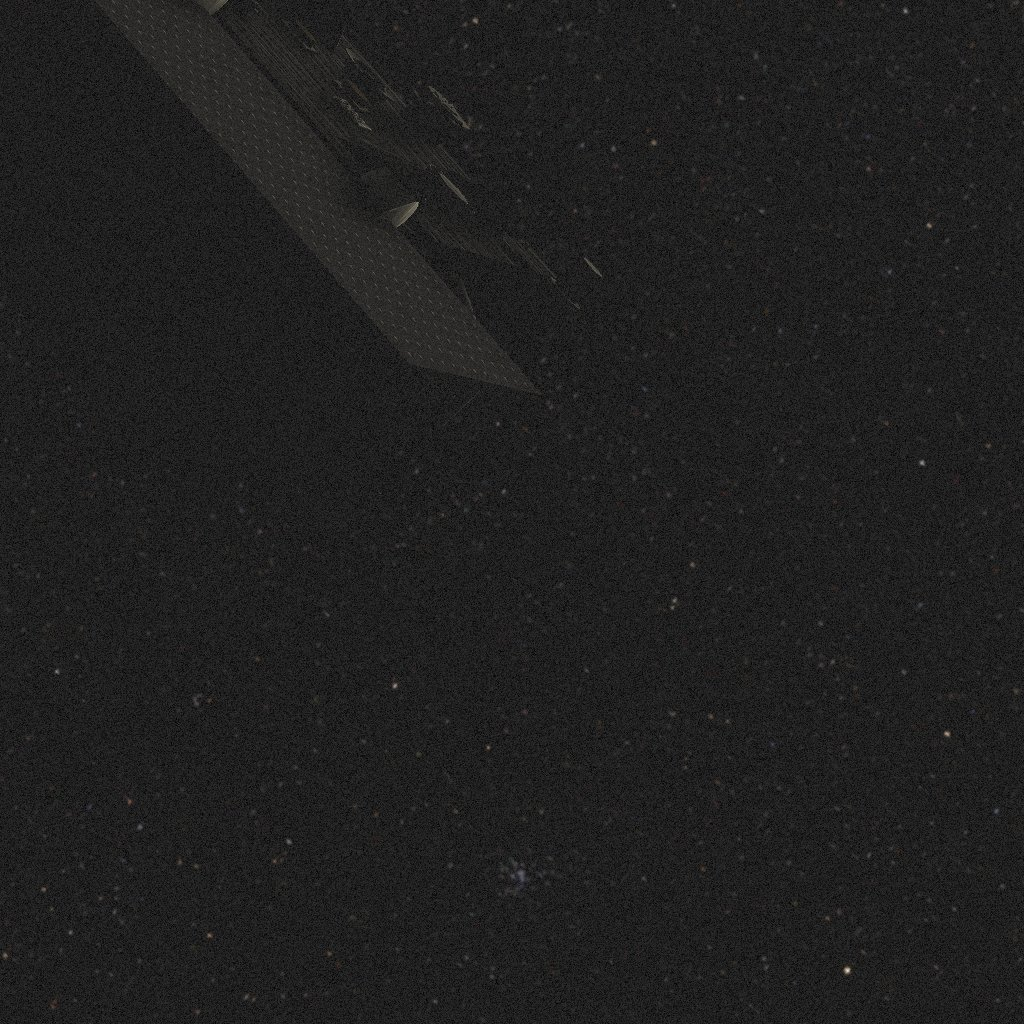proba_3_csc: (0, 0, 603, 545)
